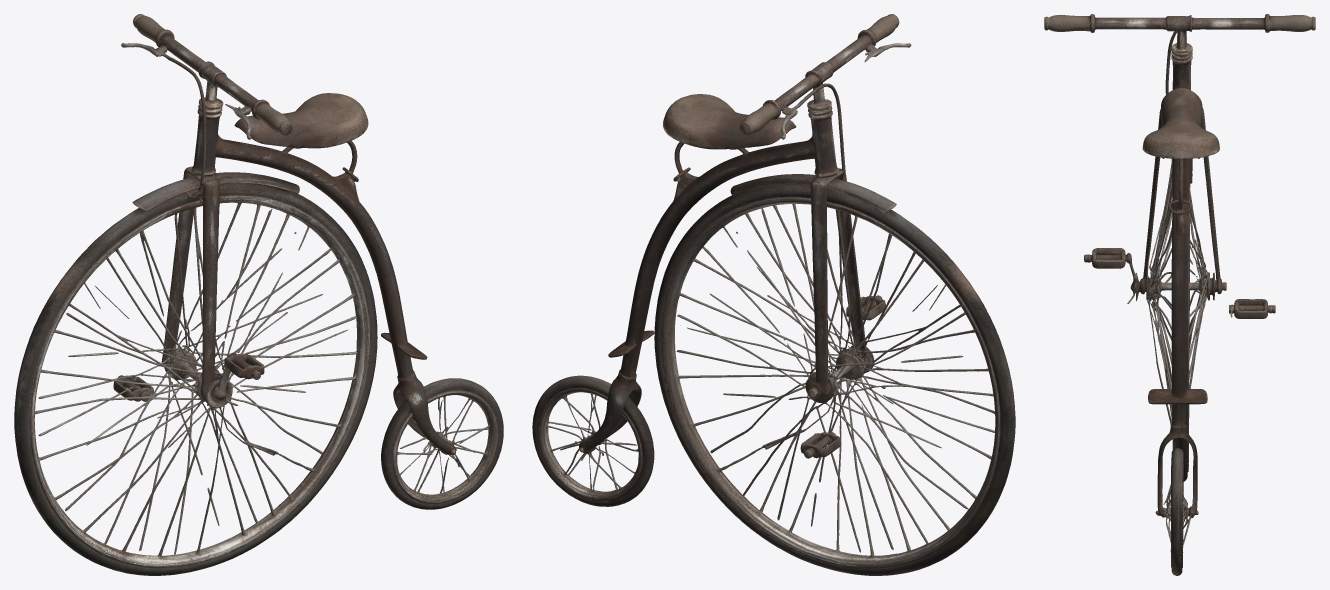
The picture shows the model from 3 angles, left to right: view 1: azimuth 30°, elevation 25°; view 2: azimuth 150°, elevation 25°; view 3: azimuth 270°, elevation 25°; orthographic projection. The views are drawn at different scales.
Visible parts, largest first — view 1: Mesh_0; view 2: Mesh_0; view 3: Mesh_0.
Boxes of the visible parts, x1=… form: Mesh_0: x1=14, y1=14, x2=503, y2=575; Mesh_0: x1=532, y1=14, x2=1015, y2=575; Mesh_0: x1=1044, y1=14, x2=1315, y2=575.
Size of the model in its own units: 1.9 by 1.88 by 1.01.
Materials: 1 (1 with a texture image).
